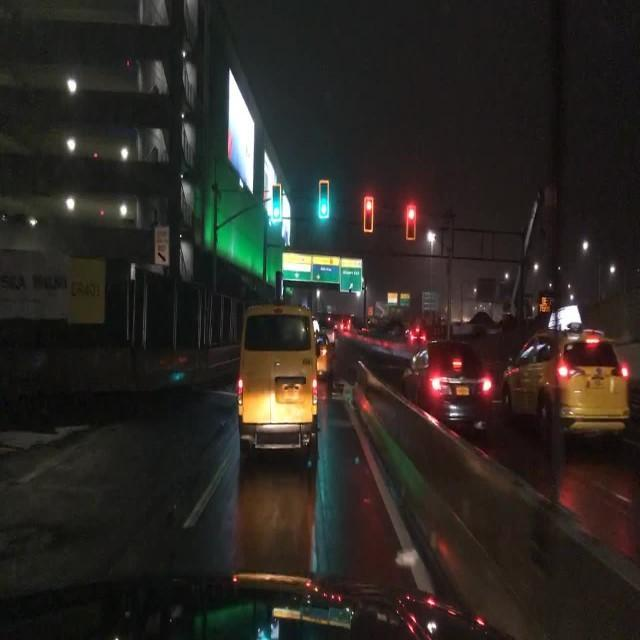normal: (380, 300, 634, 459), (213, 260, 333, 471)
